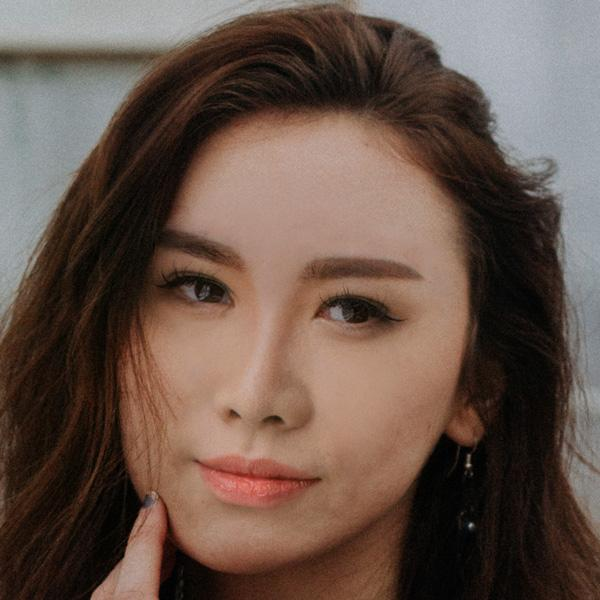Eyes: (146, 259, 247, 321), (305, 282, 402, 341)
